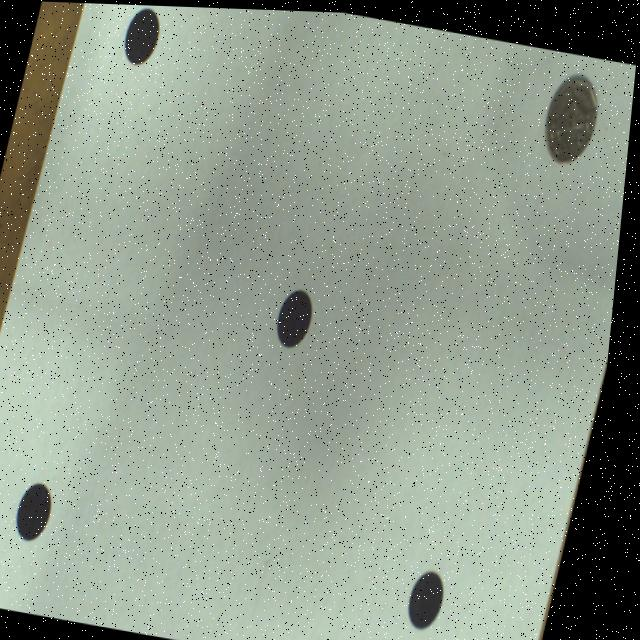space: (283, 288, 319, 345), (27, 482, 62, 540), (125, 7, 160, 64), (421, 568, 455, 625)
tail5bath: (548, 71, 599, 157)
